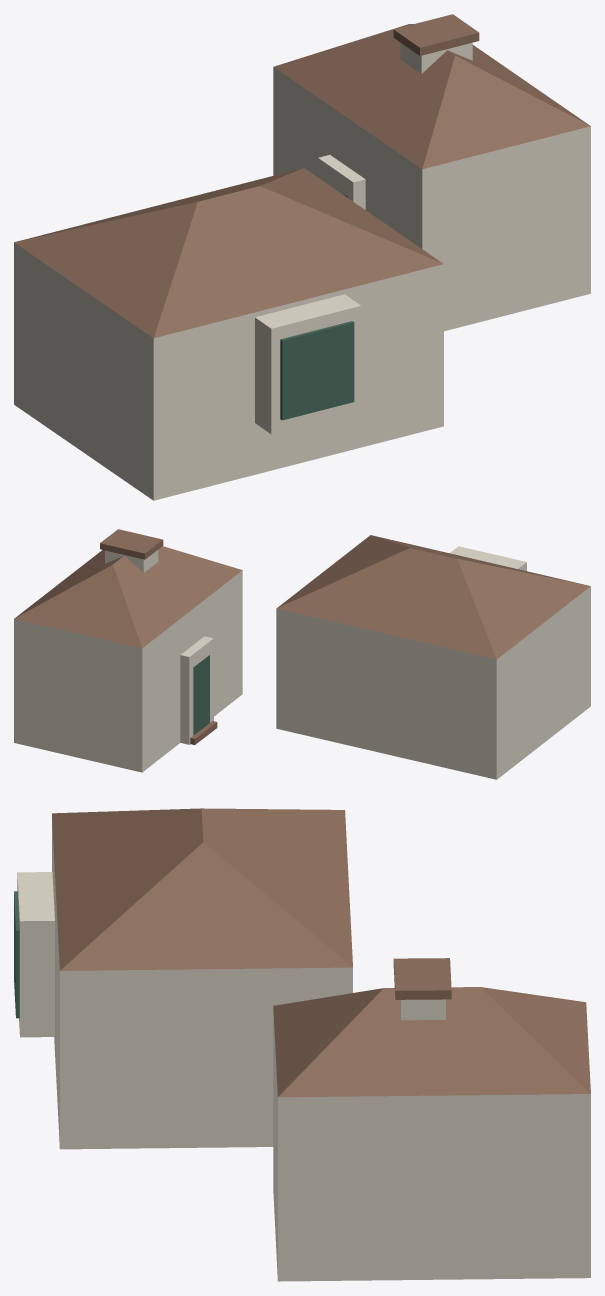
Rendered from villa-le-bec-massing.glb.
3 views of the same model, one above another, from view 1: azimuth 30°, elevation 25°; view 2: azimuth 150°, elevation 25°; view 3: azimuth 270°, elevation 25° (orthographic). The views are drawn at different scales.
Visible parts, largest first — view 1: villa-le-bec-massing; view 2: villa-le-bec-massing; view 3: villa-le-bec-massing.
Part boxes in pixels (bbox=[...]): villa-le-bec-massing: bbox=[14, 14, 590, 500]; villa-le-bec-massing: bbox=[14, 529, 590, 779]; villa-le-bec-massing: bbox=[14, 808, 590, 1281].
Bounding box in the file's own units: 11.09 × 4.58 × 9.23.
